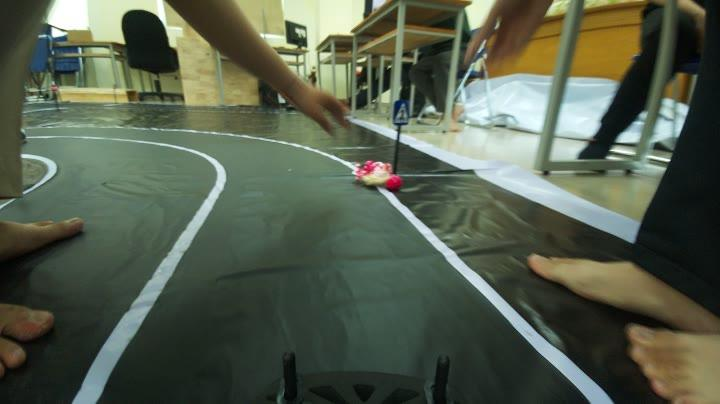crosswalk: (390, 102, 413, 128)
